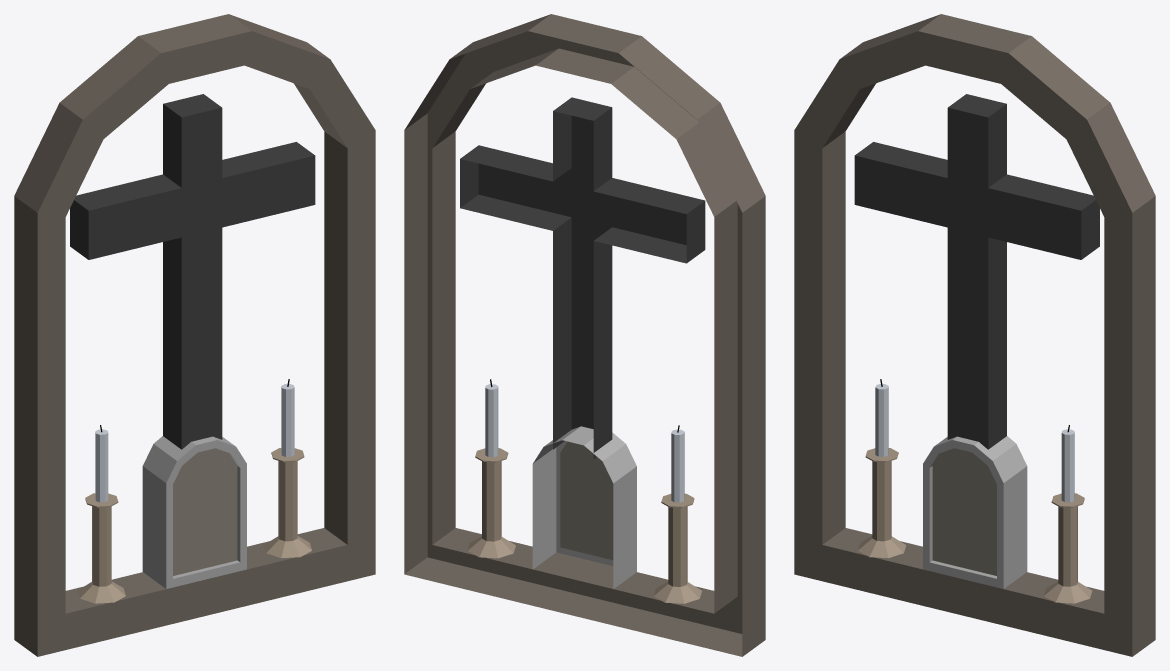
File: AltarCapela.fbx
The picture shows the model from 3 angles, left to right: view 1: azimuth 30°, elevation 25°; view 2: azimuth 150°, elevation 25°; view 3: azimuth 330°, elevation 25°; orthographic projection.
Parts seen in each view (by area): view 1: Circle.001, Cube, Circle.002, Circle.003; view 2: Circle.001, Cube, Circle.002, Circle.003; view 3: Circle.001, Cube, Circle.002, Circle.003.
Boxes of the visible parts, <box> form: Circle.001: <box>14,14,375,656</box>; Cube: <box>70,94,315,449</box>; Circle.002: <box>142,436,246,588</box>; Circle.003: <box>77,379,311,603</box>; Circle.001: <box>404,14,765,656</box>; Cube: <box>460,97,705,458</box>; Circle.002: <box>532,426,636,588</box>; Circle.003: <box>467,379,701,603</box>; Circle.001: <box>794,14,1155,656</box>; Cube: <box>854,94,1099,449</box>; Circle.002: <box>923,436,1027,588</box>; Circle.003: <box>858,379,1092,603</box>.
Bounding box in the file's own units: 167 × 271 × 21.54.
